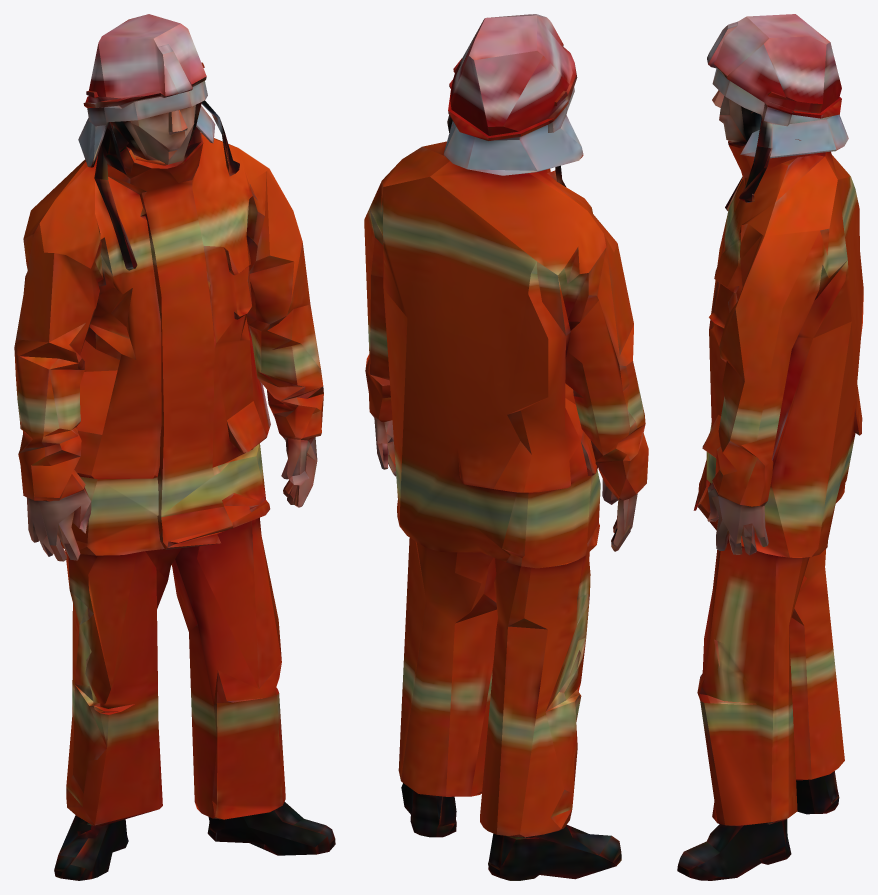
The model's file is damkar_idle_lod2.glb.
3 views of the same model, side by side, from view 1: azimuth 30°, elevation 25°; view 2: azimuth 150°, elevation 25°; view 3: azimuth 270°, elevation 25° (orthographic). The views are drawn at different scales.
Visible parts, largest first — view 1: tripo_node_d2e113b2; view 2: tripo_node_d2e113b2; view 3: tripo_node_d2e113b2.
Boxes of the visible parts, <box> form: tripo_node_d2e113b2: <box>14,14,335,880</box>; tripo_node_d2e113b2: <box>364,14,648,880</box>; tripo_node_d2e113b2: <box>677,14,863,880</box>.
Bounding box in the file's own units: 35.42 × 99.1 × 21.01.
Materials: 1 (1 with a texture image).
